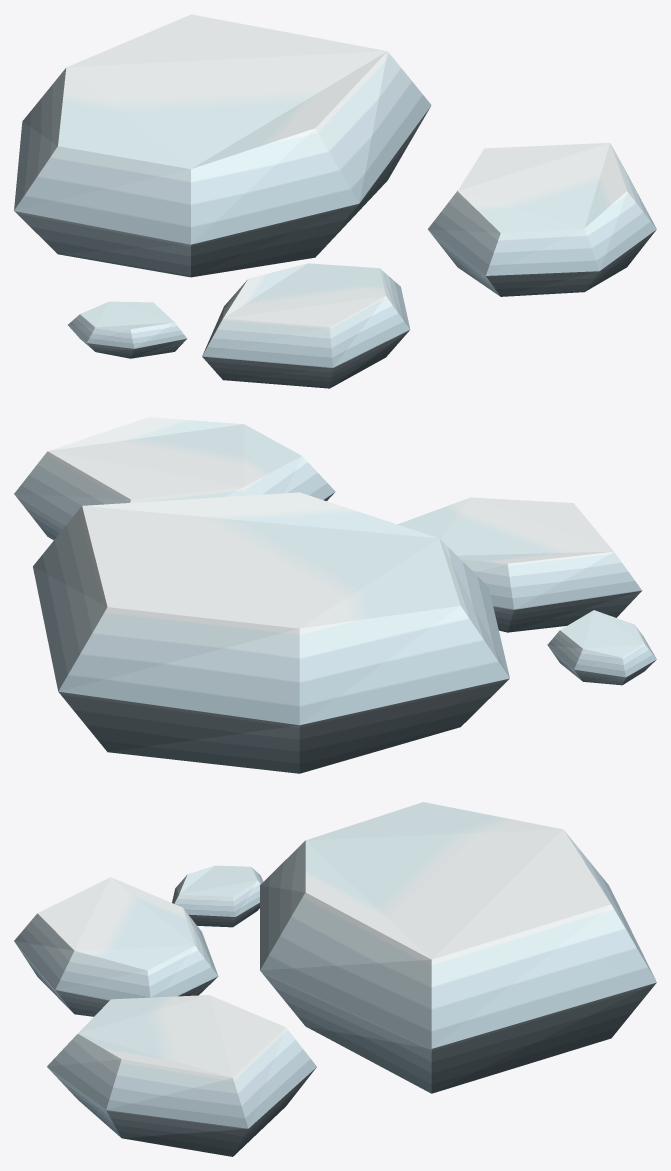
File: rock_011.fbx
The picture shows the model from 3 angles, top to bottom: view 1: azimuth 30°, elevation 25°; view 2: azimuth 150°, elevation 25°; view 3: azimuth 270°, elevation 25°; orthographic projection. The views are drawn at different scales.
Visible parts, largest first — view 1: rock.011; view 2: rock.011; view 3: rock.011.
Boxes of the visible parts, x1,y1,x2,y2 form: rock.011: [14, 14, 656, 388]; rock.011: [14, 417, 656, 773]; rock.011: [14, 802, 656, 1156].
Bounding box in the file's own units: 30.69 × 7.26 × 29.67.
